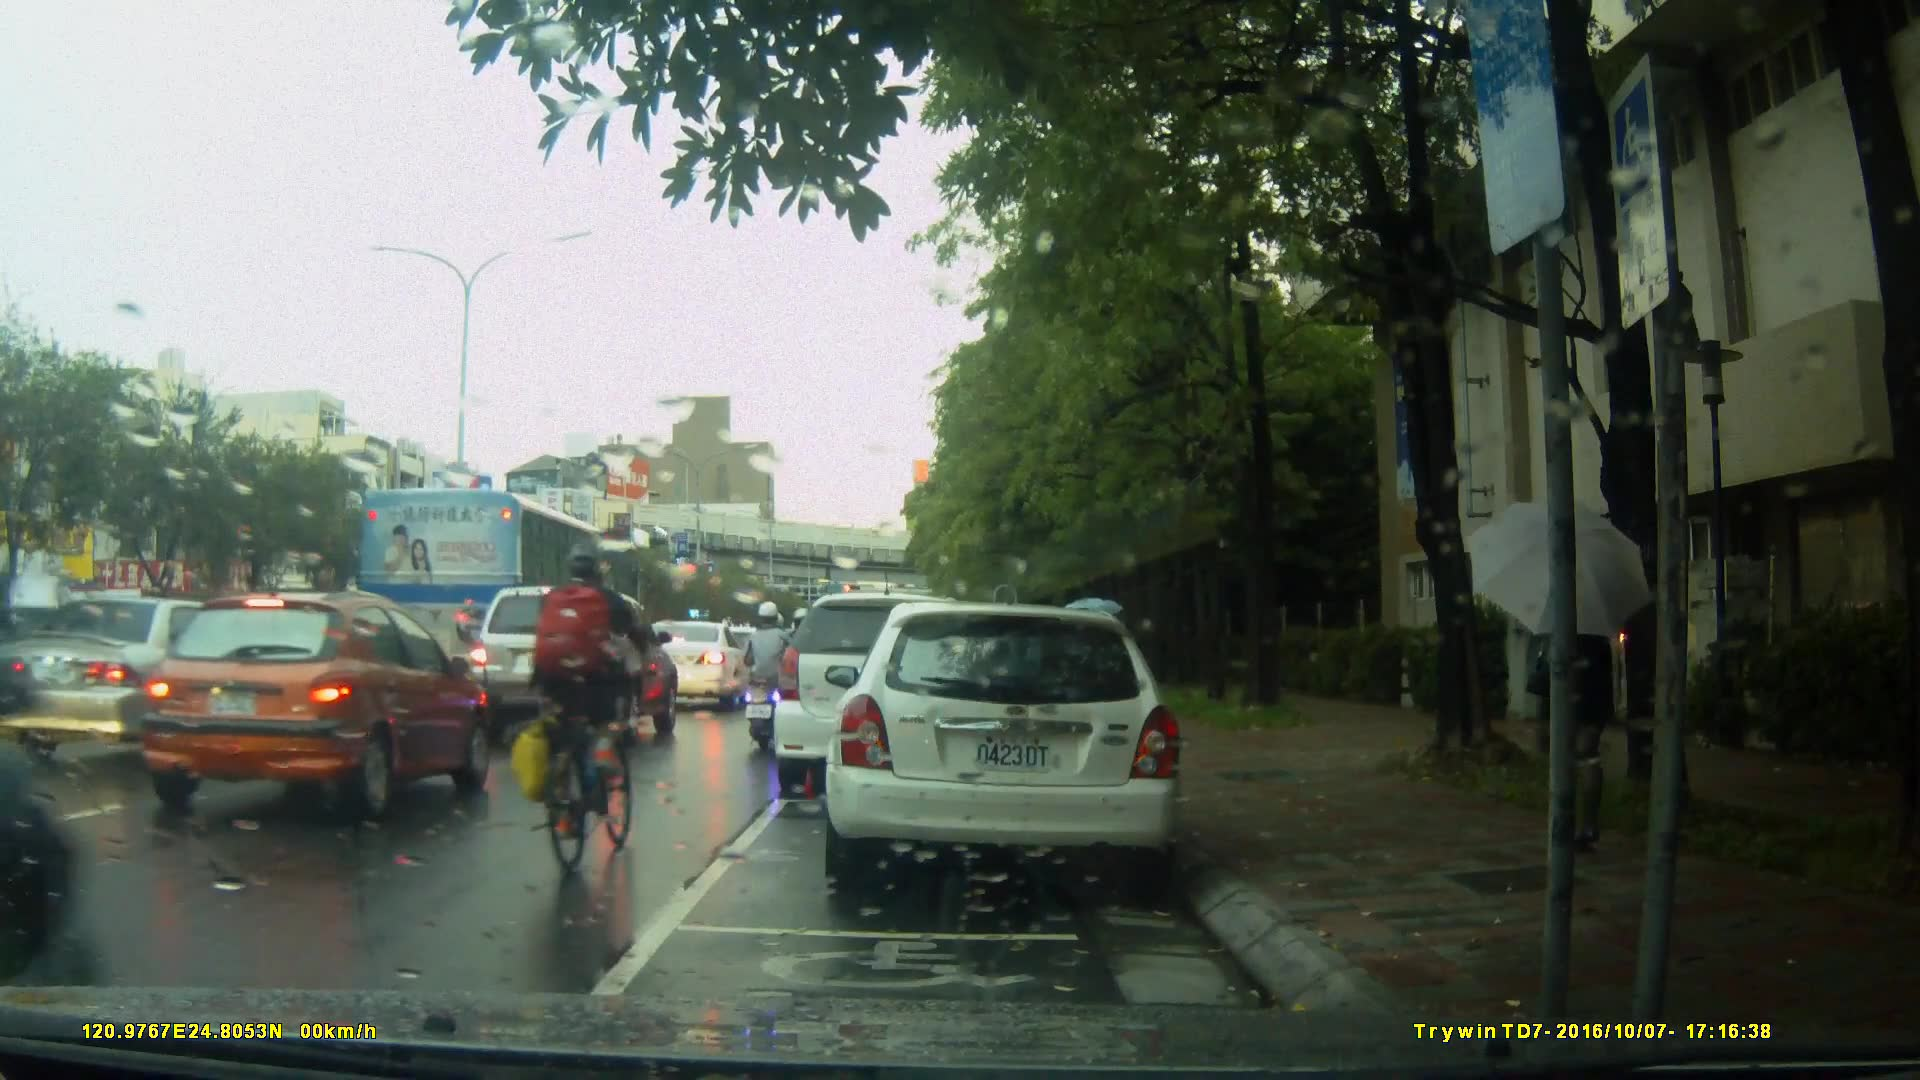pedestrian: (1518, 528, 1648, 867)
rider: (516, 547, 639, 874), (744, 598, 803, 749), (776, 605, 822, 726)
vehicle: (835, 594, 1194, 898), (134, 590, 495, 831), (354, 484, 648, 727), (1, 592, 284, 770), (776, 590, 1026, 784), (462, 582, 680, 744)
